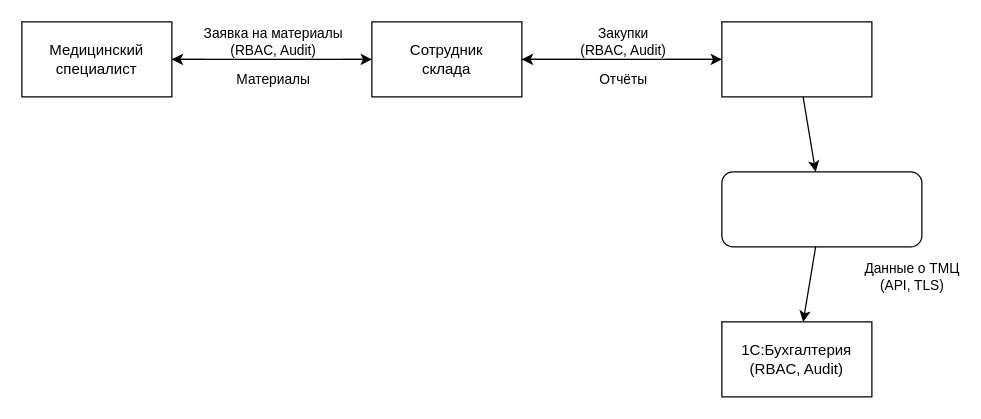
This 981x419 diagram has some shape labels left out. Each missing label, with the box of its shape:
1С:Торговля и склад (RBAC, Audit): (721, 21, 872, 97)
Классификация и тегирование ТМЦ: (721, 171, 922, 247)
